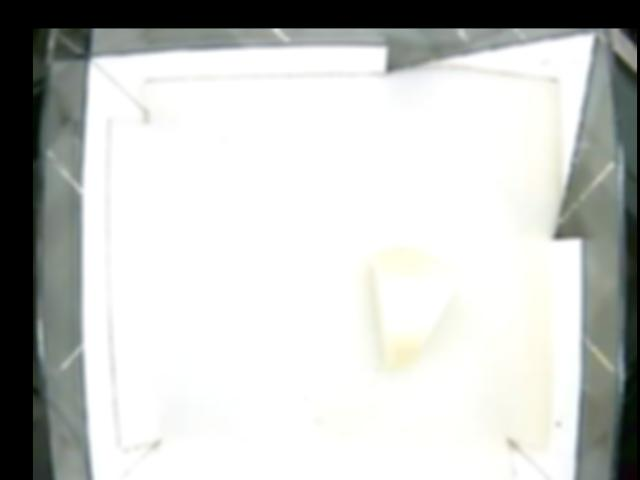Mooli: (371, 246, 452, 373)
